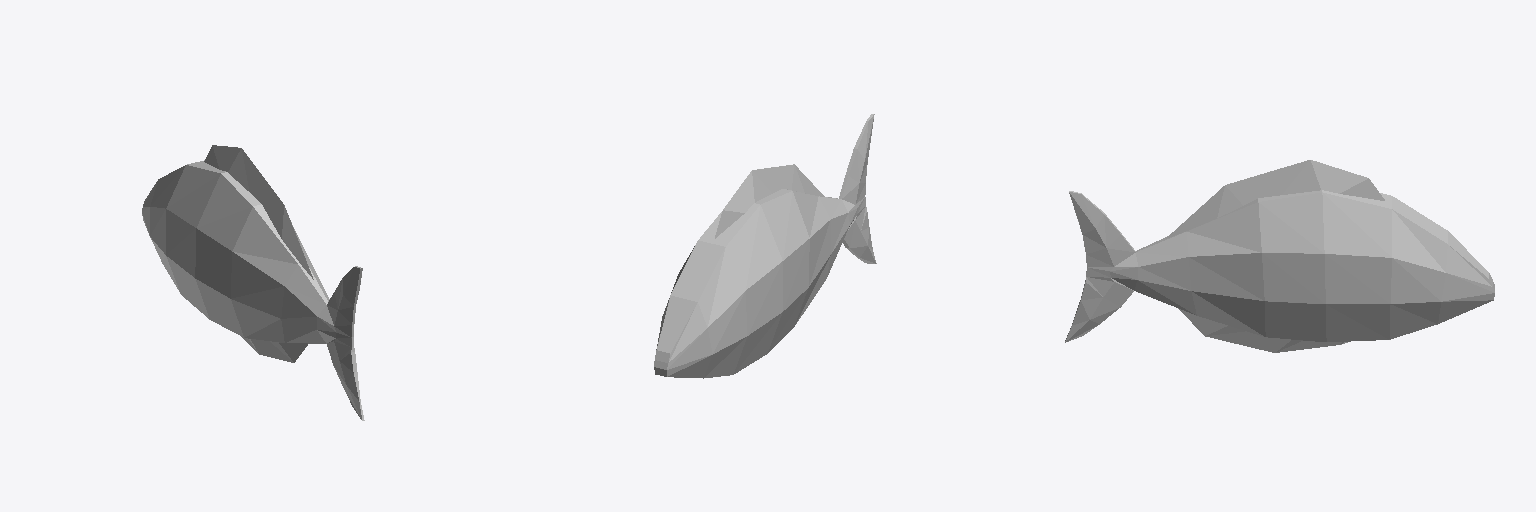
File: fishLP.obj
3 views of the same model, side by side, from view 1: azimuth 30°, elevation 25°; view 2: azimuth 150°, elevation 25°; view 3: azimuth 270°, elevation 25° (orthographic).
Visible parts, largest first — view 1: Fish:Fish; view 2: Fish:Fish; view 3: Fish:Fish.
Part boxes in pixels (x1,y1,x2,y2): Fish:Fish: (142,145,364,420); Fish:Fish: (654,114,876,378); Fish:Fish: (1065,160,1494,352).
Size of the model in its own units: 0.8621 by 2.11 by 4.25.